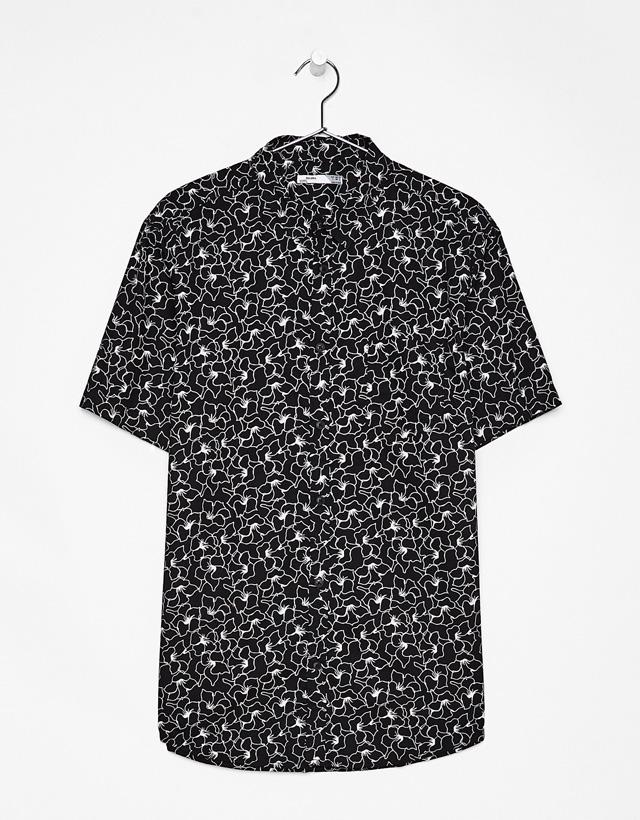teeshirt: (94, 127, 548, 804)
